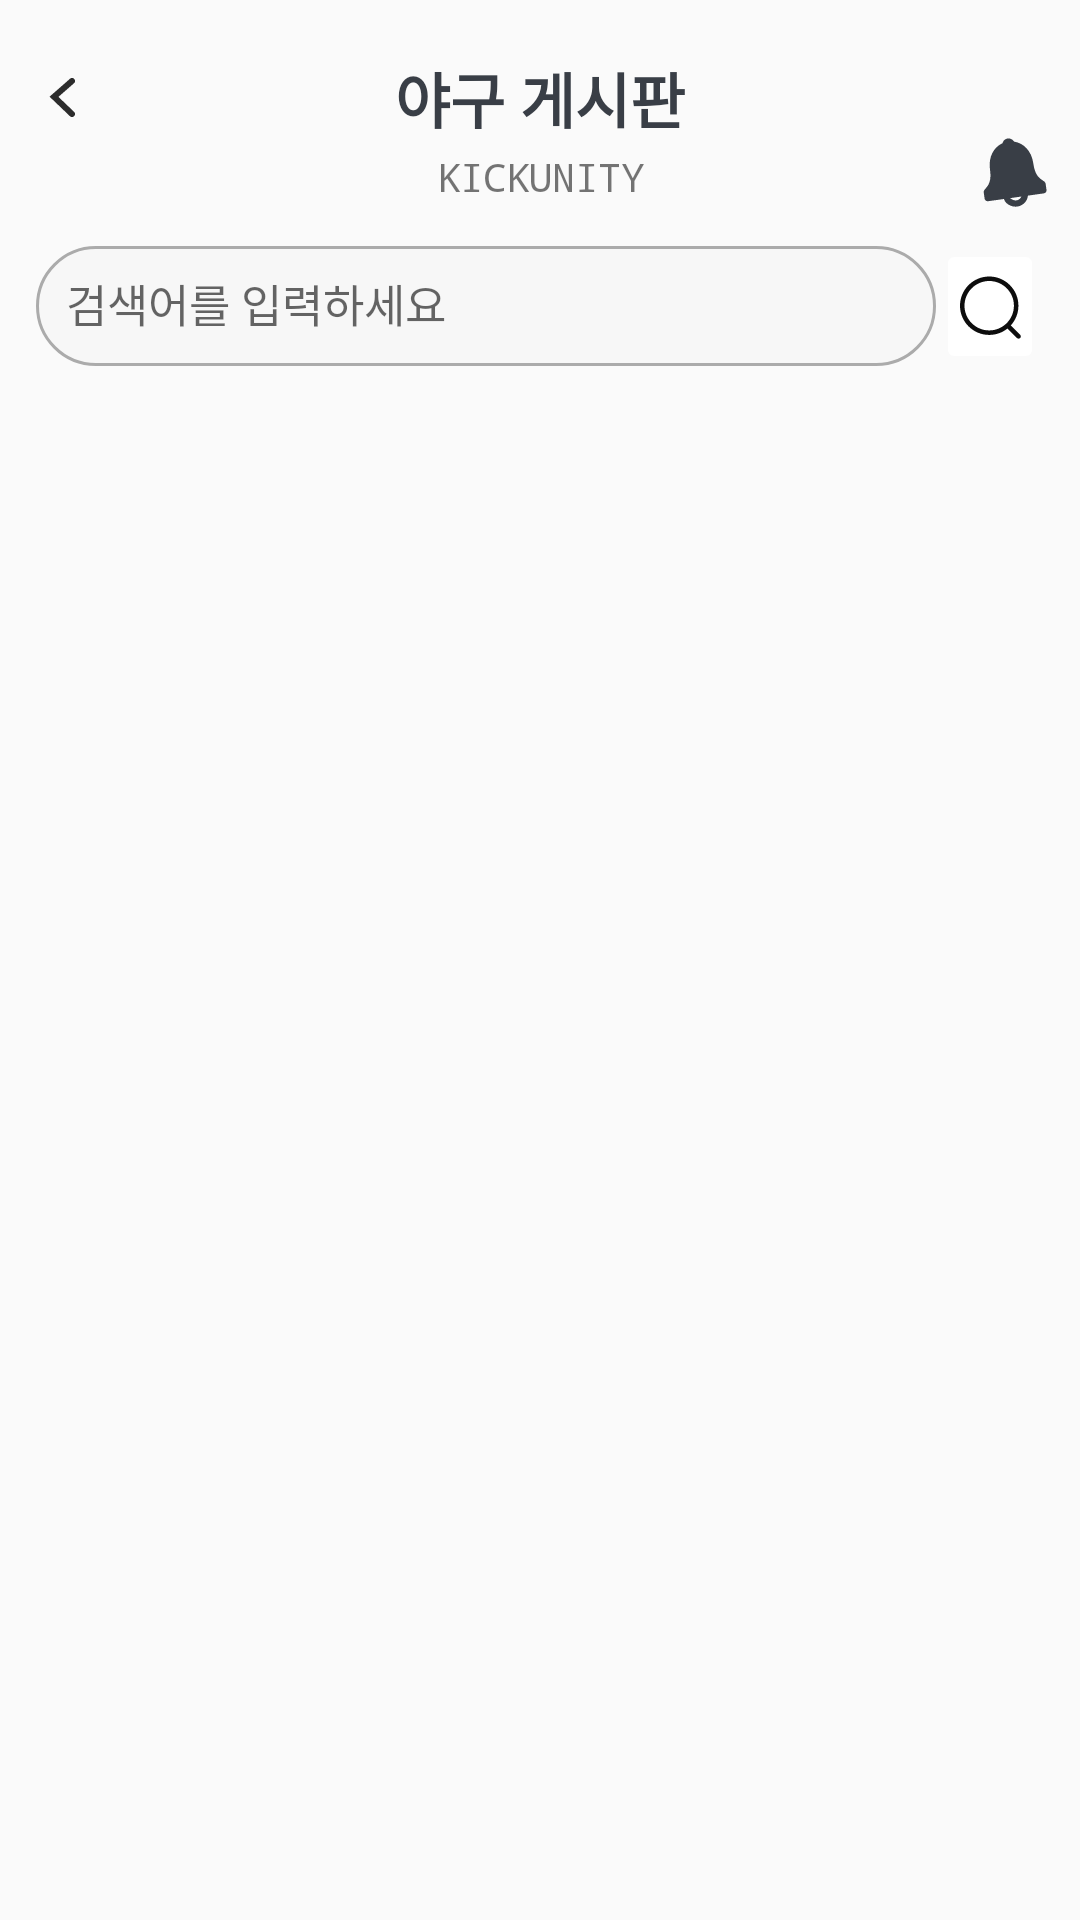

Named icons in this screenshot (1080x1920) and their centers, (x,y):
arrow: (62,97)
bell: (1015,172)
Search: (990,307)
